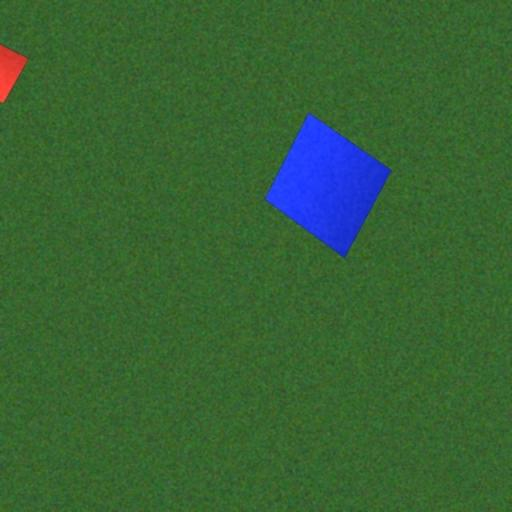BLUE_SQUARE: (264, 112, 392, 258)
RED_SQUARE: (0, 31, 30, 105)
